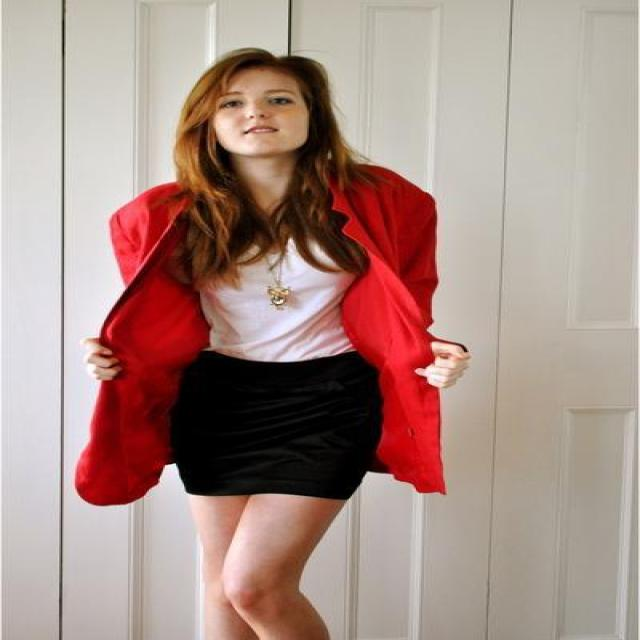jacket: (61, 167, 466, 524)
shirt: (200, 238, 352, 360)
skirt: (166, 346, 388, 498)
